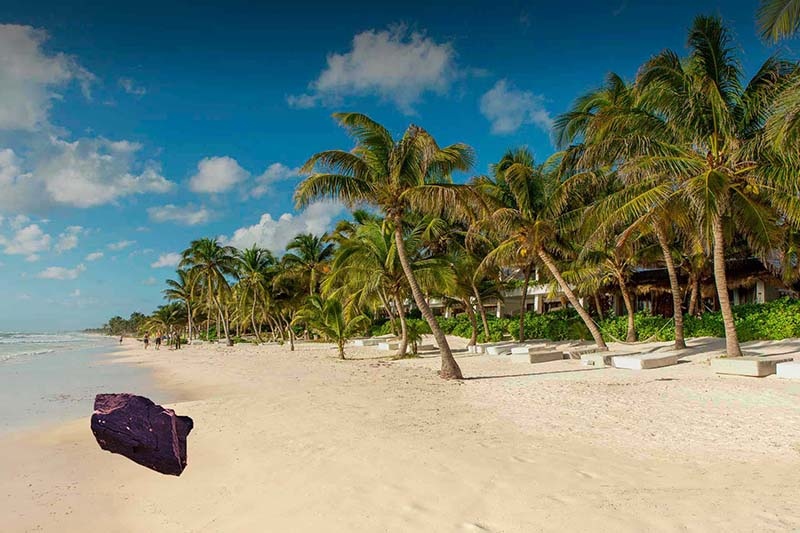Rocks: (85, 384, 199, 479)
